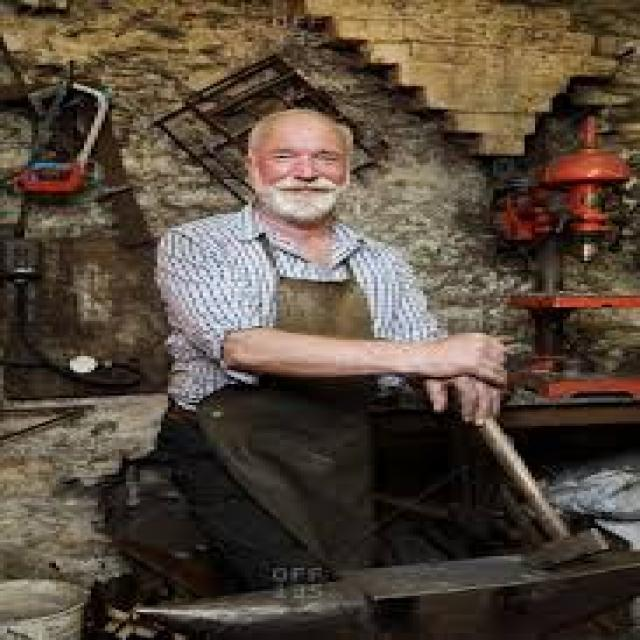hammer: (414, 368, 621, 578)
